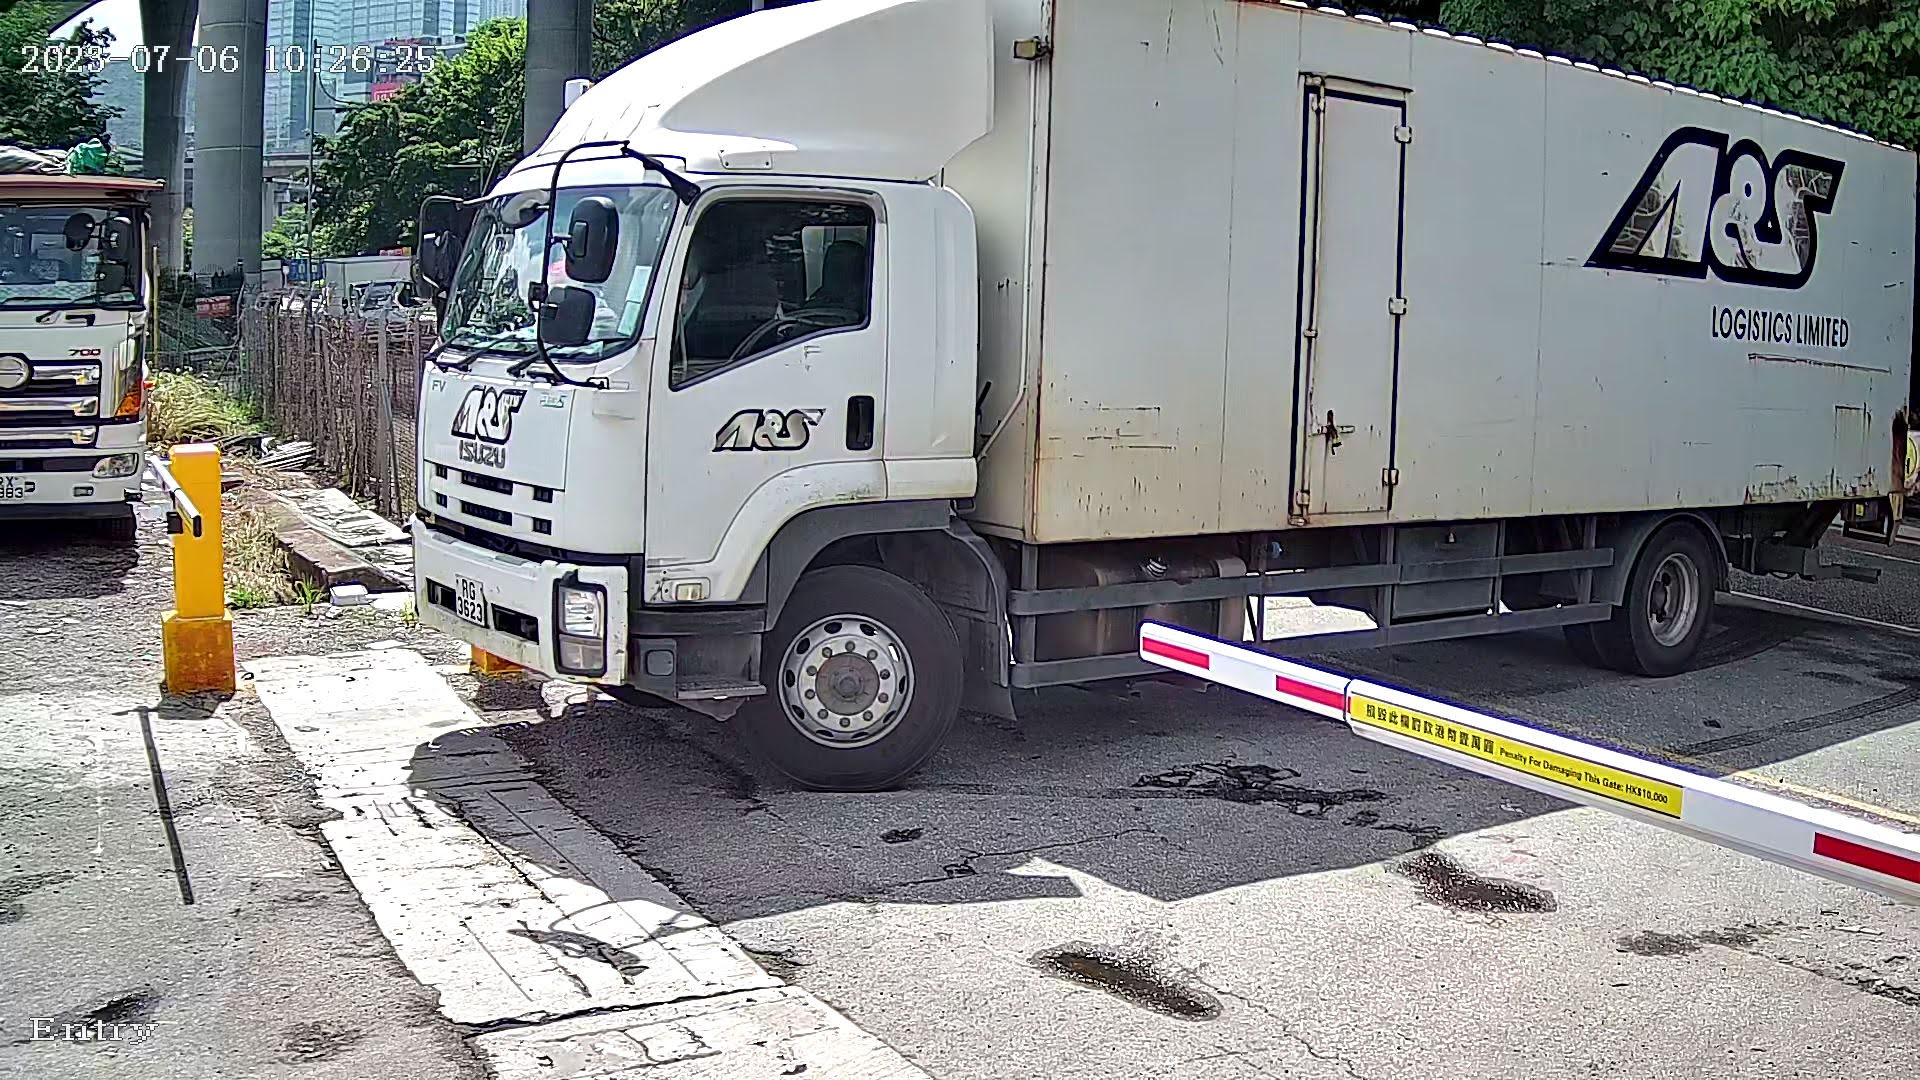truck: (371, 1, 1913, 810)
